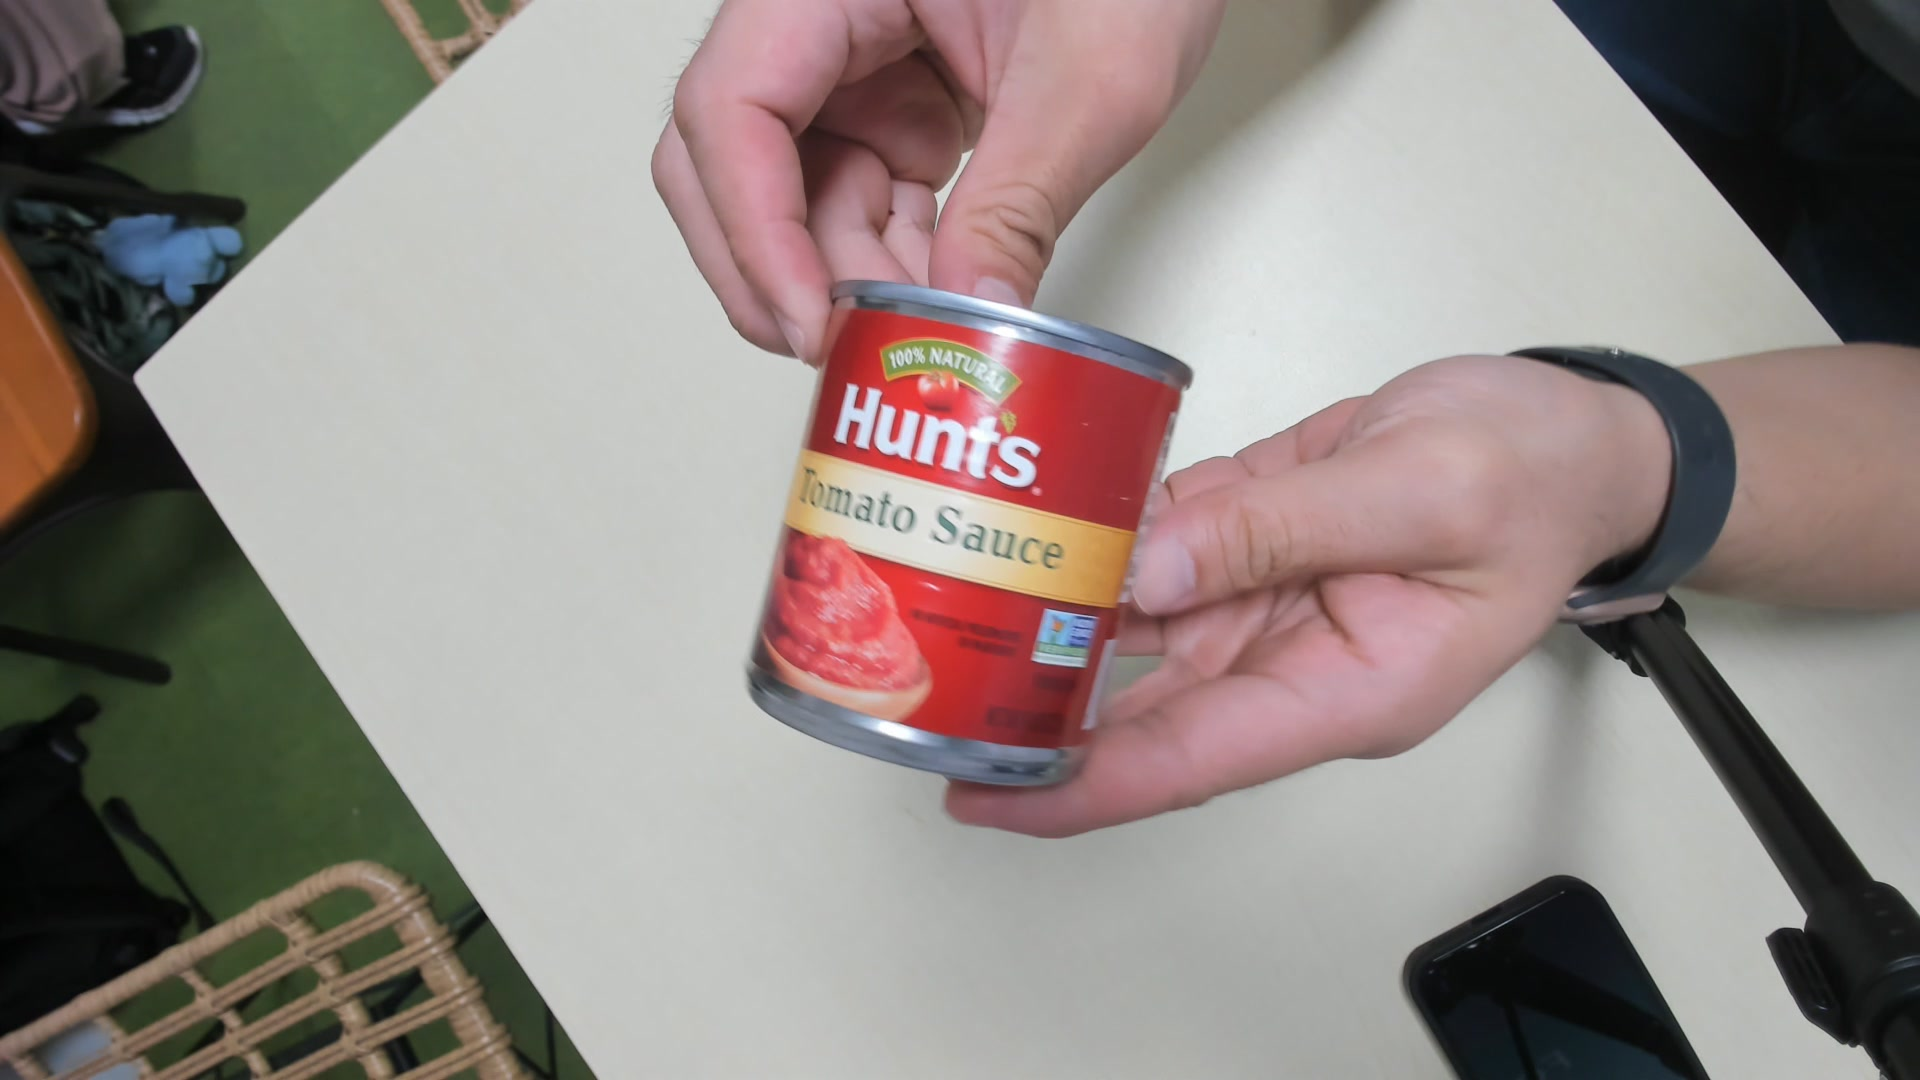OtherSauceDressing_200-299g_NonHalal_NonHealthy: (742, 276, 1187, 789)
